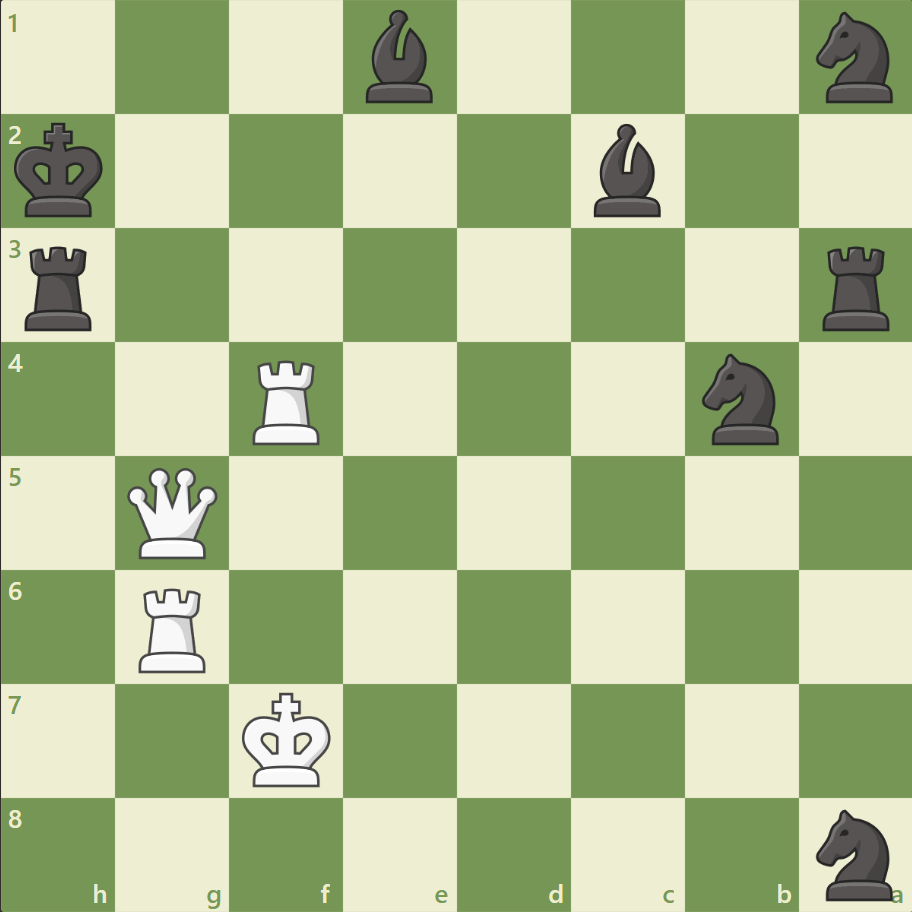K: (238, 685, 338, 793)
Q: (124, 463, 223, 562)
R: (246, 352, 329, 449), (133, 579, 215, 676)
b: (358, 6, 442, 109), (585, 120, 669, 222)
k: (11, 117, 111, 225)
n: (806, 7, 903, 110), (806, 802, 903, 904), (692, 348, 789, 450)
r: (814, 239, 897, 336), (19, 239, 102, 336)
